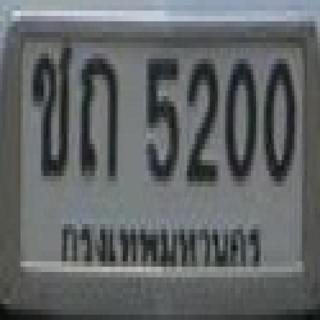A10: (26, 40, 76, 181)
A22: (76, 51, 127, 186)
N00: (258, 56, 304, 187), (220, 55, 260, 184)
N02: (181, 54, 220, 190)
N05: (138, 56, 180, 180)
P04: (54, 211, 268, 267)
